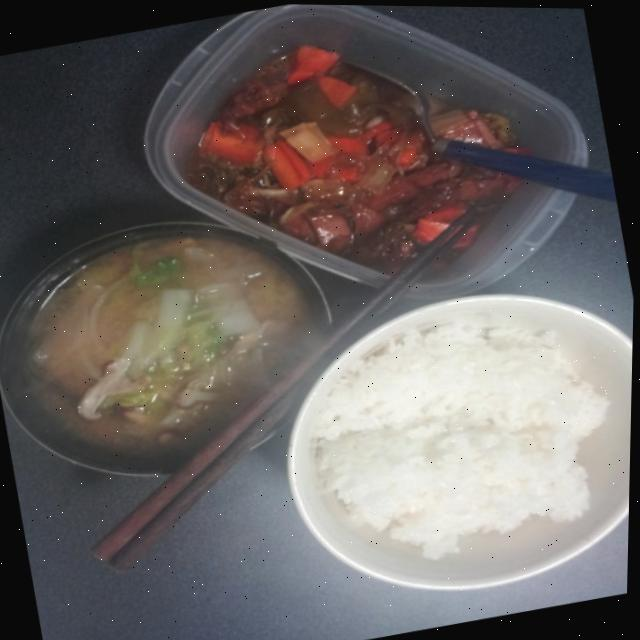米饭主食: (251, 259, 636, 625)
